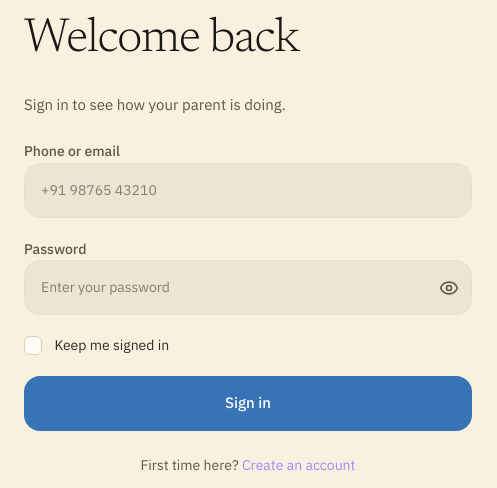
a new caregiver who tries to log in › is told to sign up, and lands there with the number already typed
Later steps or results of the test are not shown.
Type "+919876543210" into the field labelled "Phone or email" at {"x": 248, "y": 190}, box [25,164,471,216]
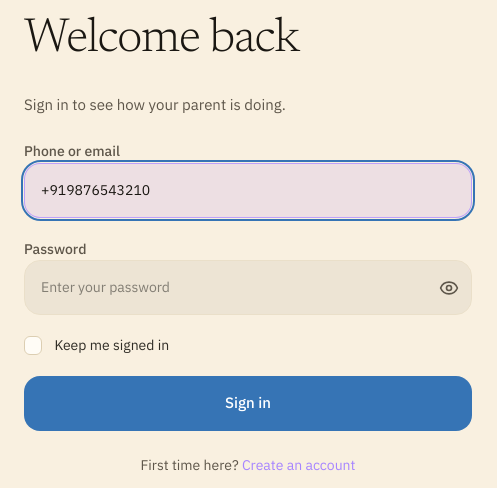
Type "whatever-they-guessed" into the password field labelled "Password" at {"x": 248, "y": 288}, box [25,261,471,314]
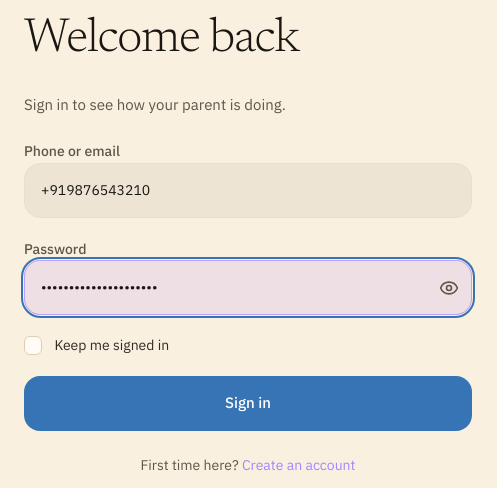
Click the button "Sign in" at {"x": 248, "y": 403}, box [24,376,472,430]
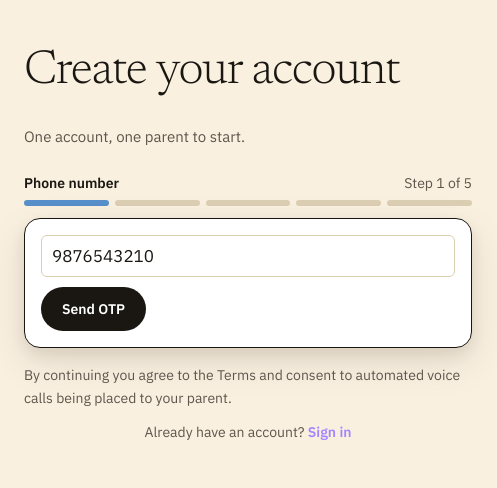
Now the field named "your phone number" holds "9876543210", box [41,235,455,277]
